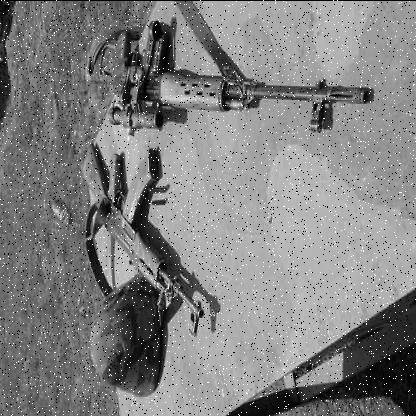rifle: (81, 1, 377, 158), (61, 104, 225, 340)
